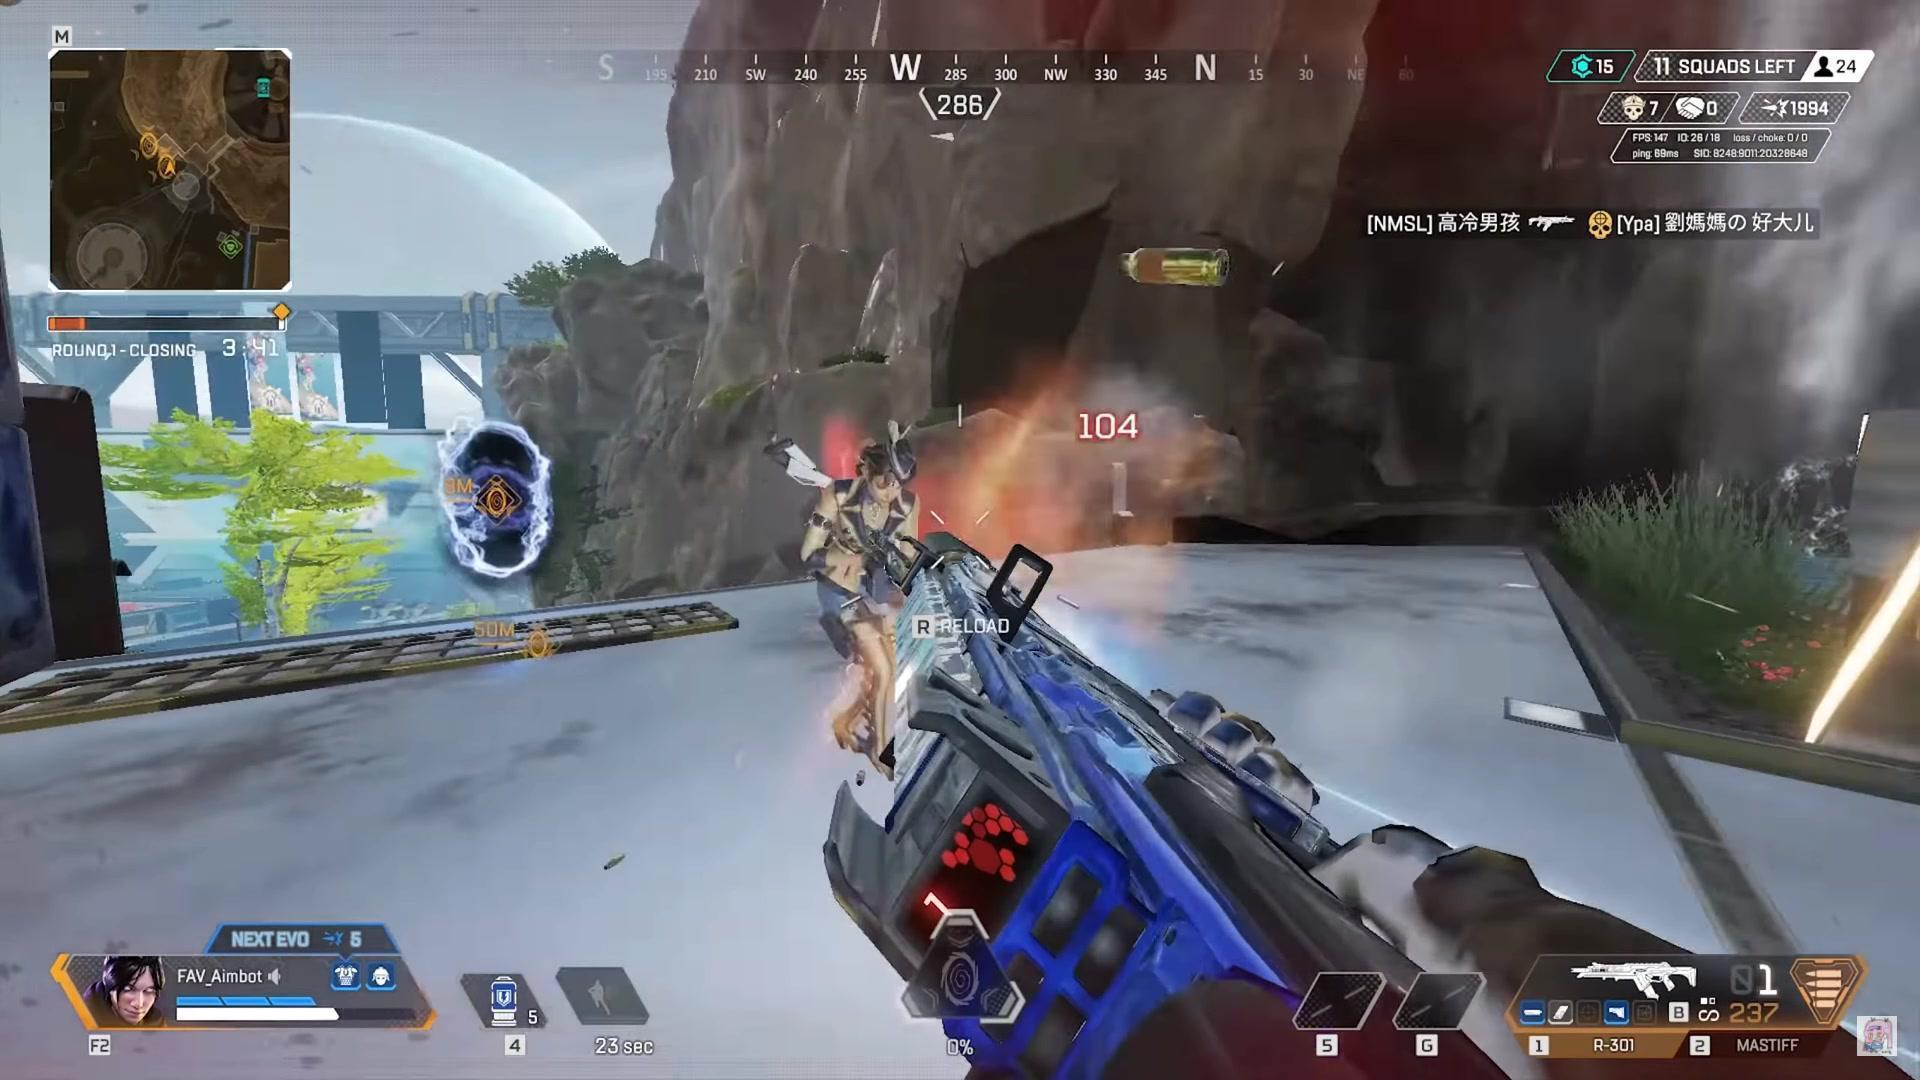avatar: (795, 435, 925, 788)
